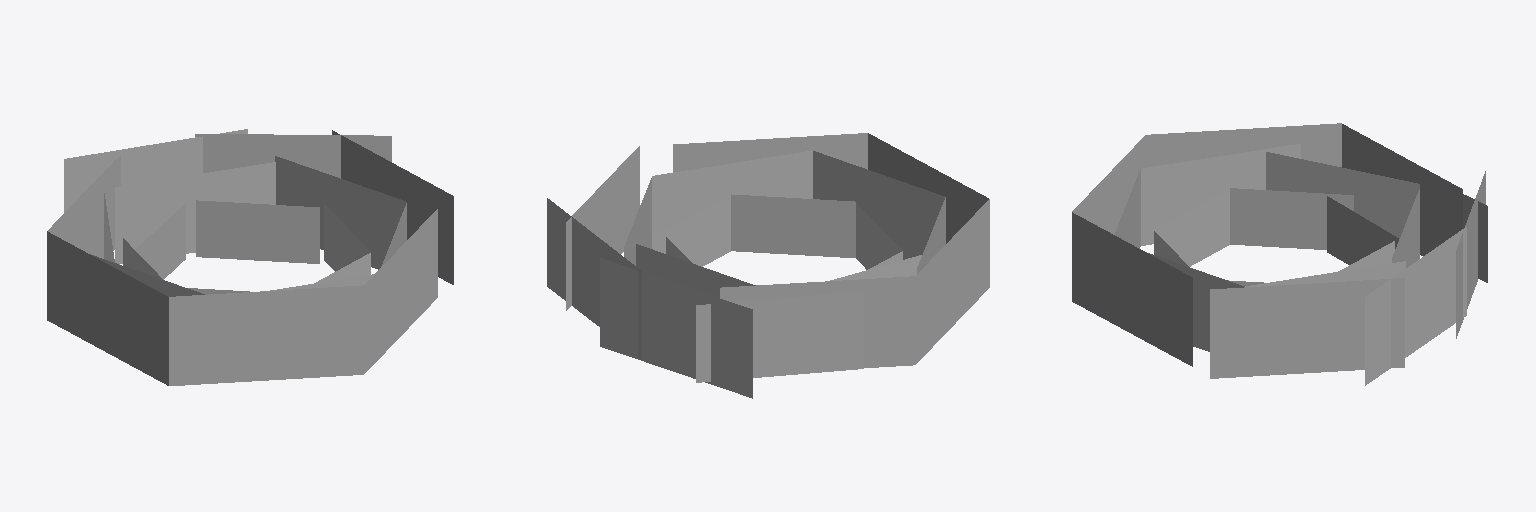
The model's file is forest.obj.
3 renders of one model, left to right at view 1: azimuth 30°, elevation 25°; view 2: azimuth 150°, elevation 25°; view 3: azimuth 270°, elevation 25°, orthographic.
Size of the model in its own units: 71.18 by 17.53 by 72.04.